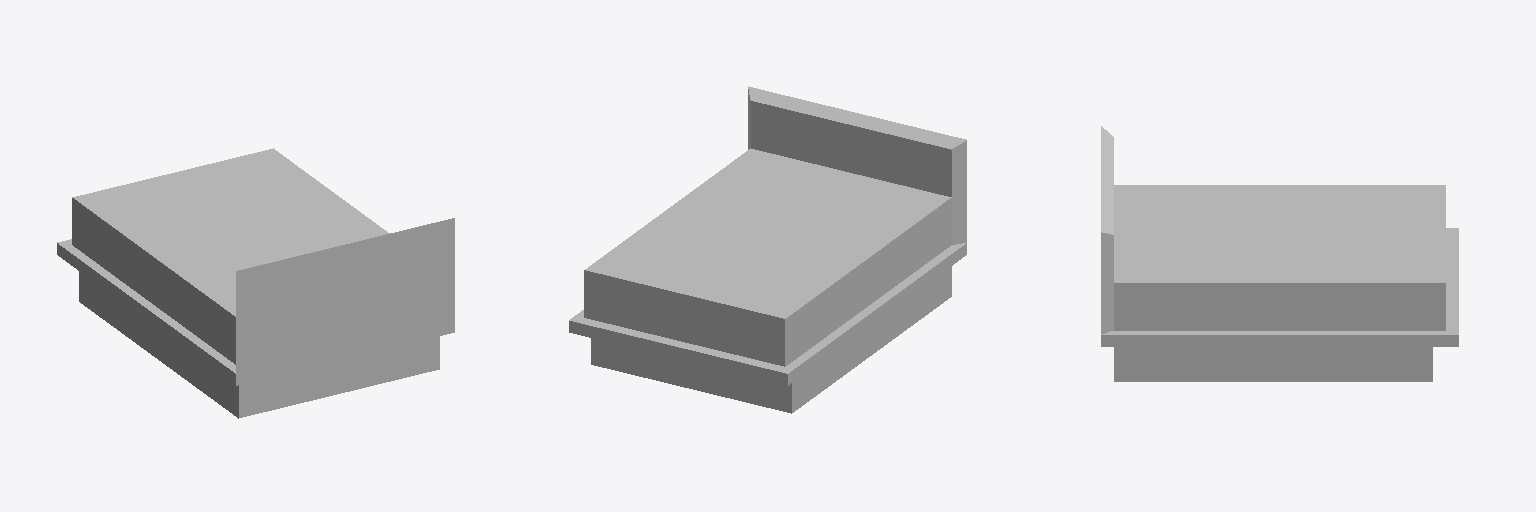
The model's file is room_lit_2_places.obj.
3 views of the same model, side by side, from view 1: azimuth 30°, elevation 25°; view 2: azimuth 150°, elevation 25°; view 3: azimuth 270°, elevation 25° (orthographic).
Parts seen in each view (by area): view 1: Plane.001; view 2: Plane.001; view 3: Plane.001.
Boxes of the visible parts, x1,y1,x2,y2 form: Plane.001: [57, 148, 454, 418]; Plane.001: [569, 86, 966, 413]; Plane.001: [1101, 126, 1458, 381].
Bounding box in the file's own units: 6.48 × 4.36 × 9.18.